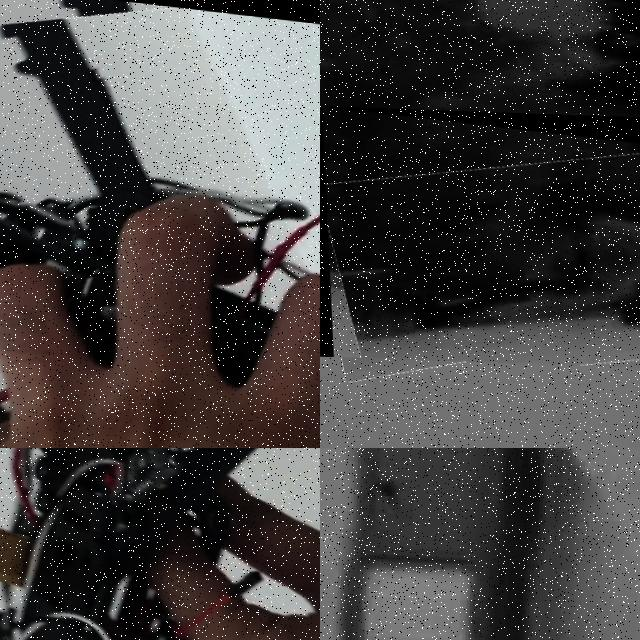0: (320, 106, 640, 374)
drone: (0, 0, 320, 448), (0, 448, 320, 640)
